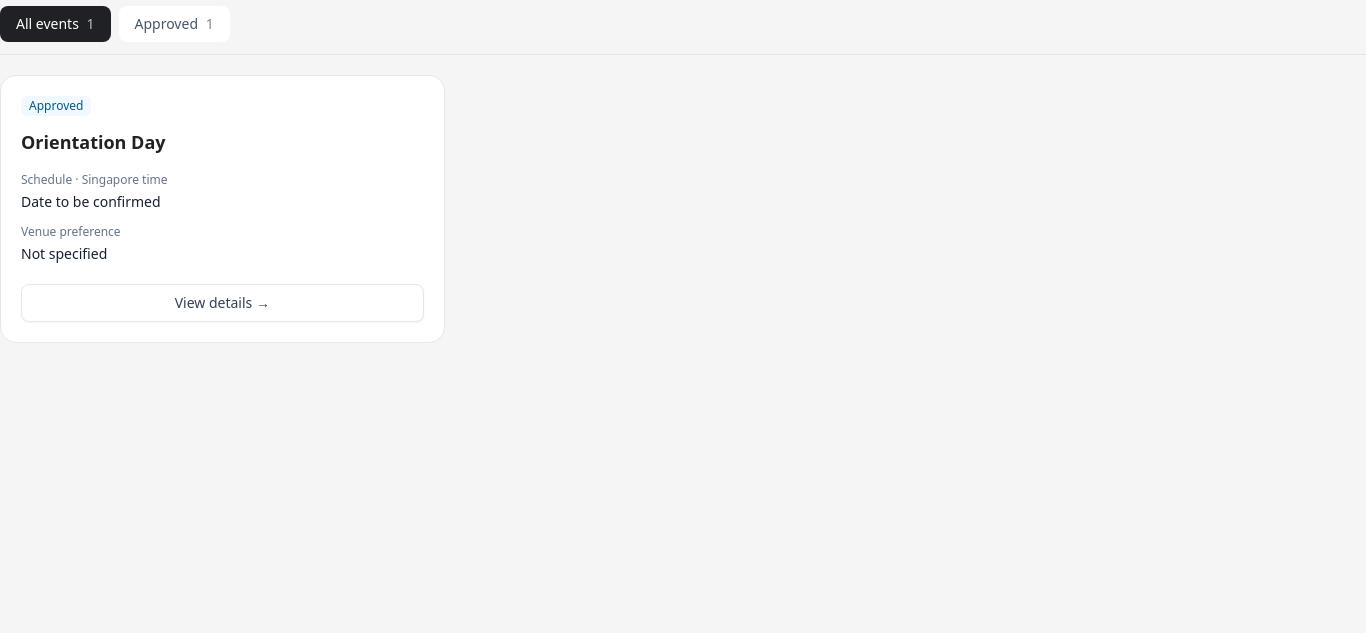
SCRUM-37 propose a significant change › AC8: a retry after a failure reuses the same submission key
Click the button with aria-label "View details for Orientation Day" at (222, 303), box x1=21 y1=284 x2=424 y2=322
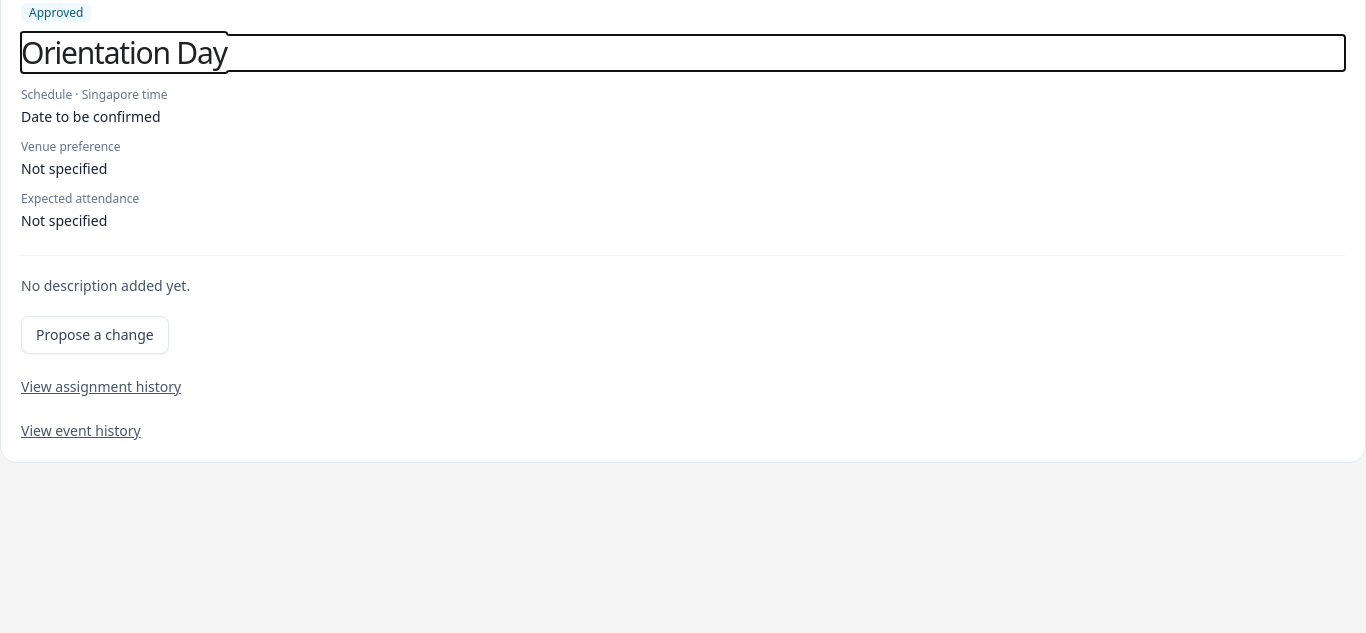
Click the button with aria-label "Propose a change to Orientation Day" at (95, 335), box x1=21 y1=316 x2=169 y2=354
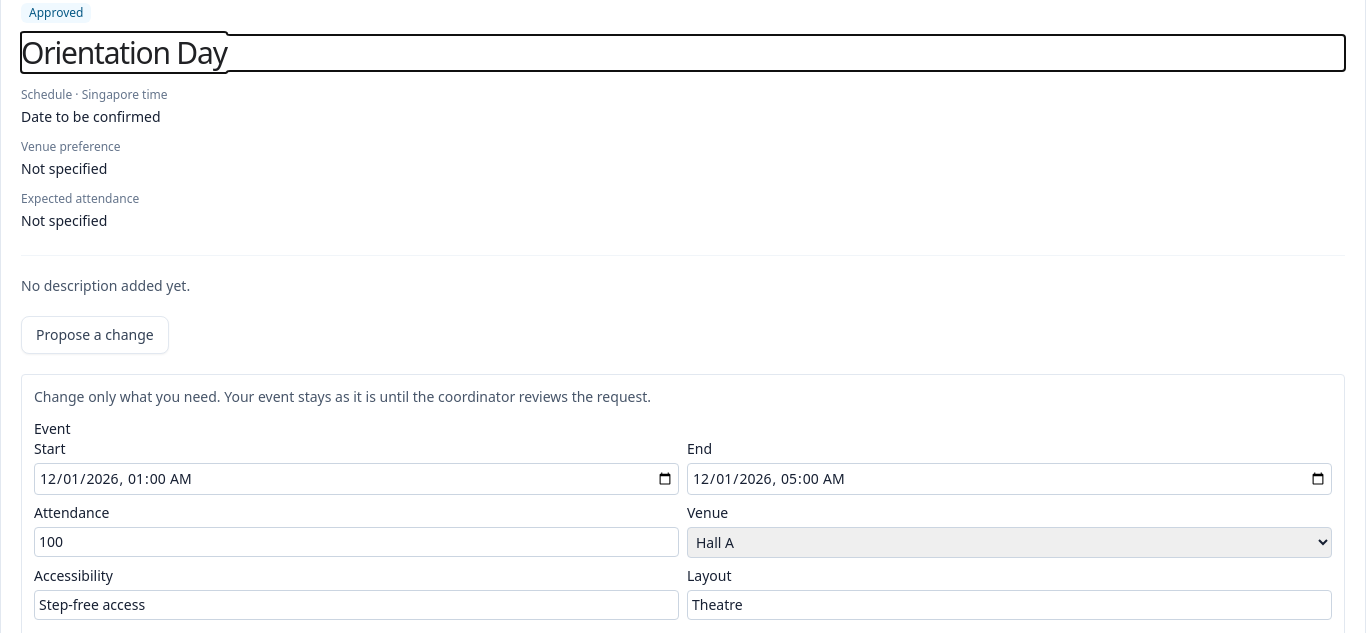
Replace the text in the number field labelled "Attendance" with "150" at (356, 542), box x1=34 y1=527 x2=679 y2=557
(page scrolled)
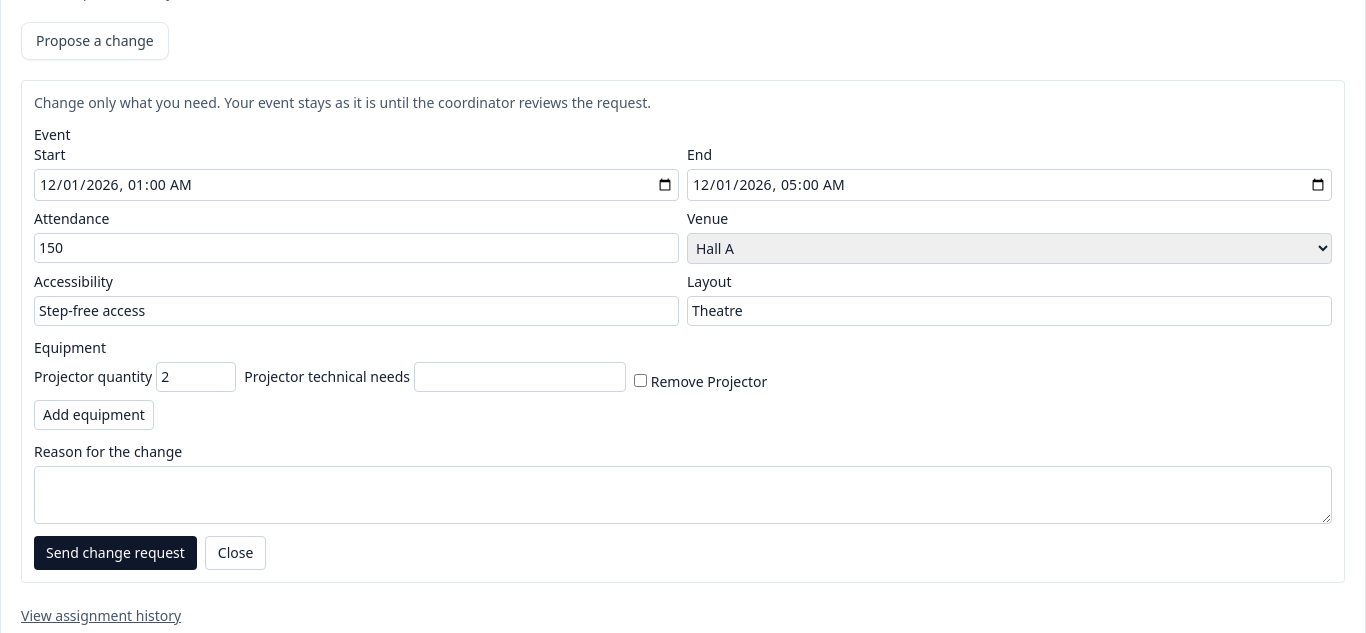
Type "More people" into the text box labelled "Reason for the change" at (683, 495), box x1=34 y1=466 x2=1332 y2=524
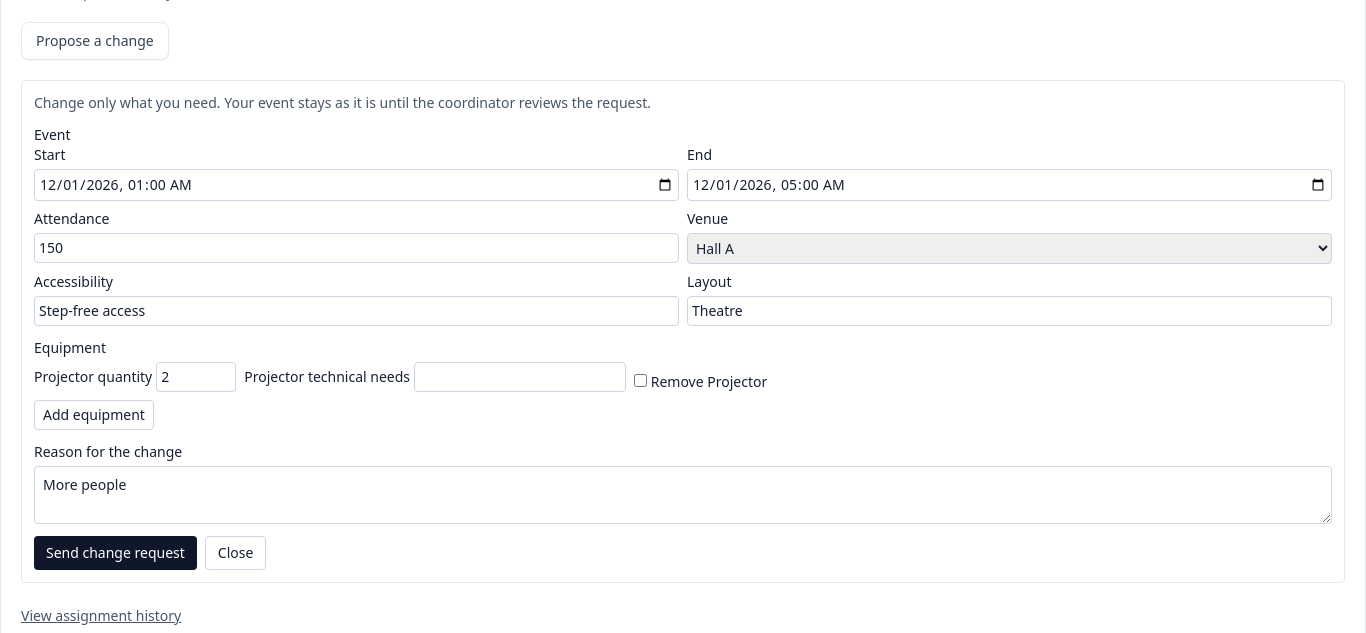
Click the button "Send change request" at (115, 553), box x1=34 y1=536 x2=197 y2=570
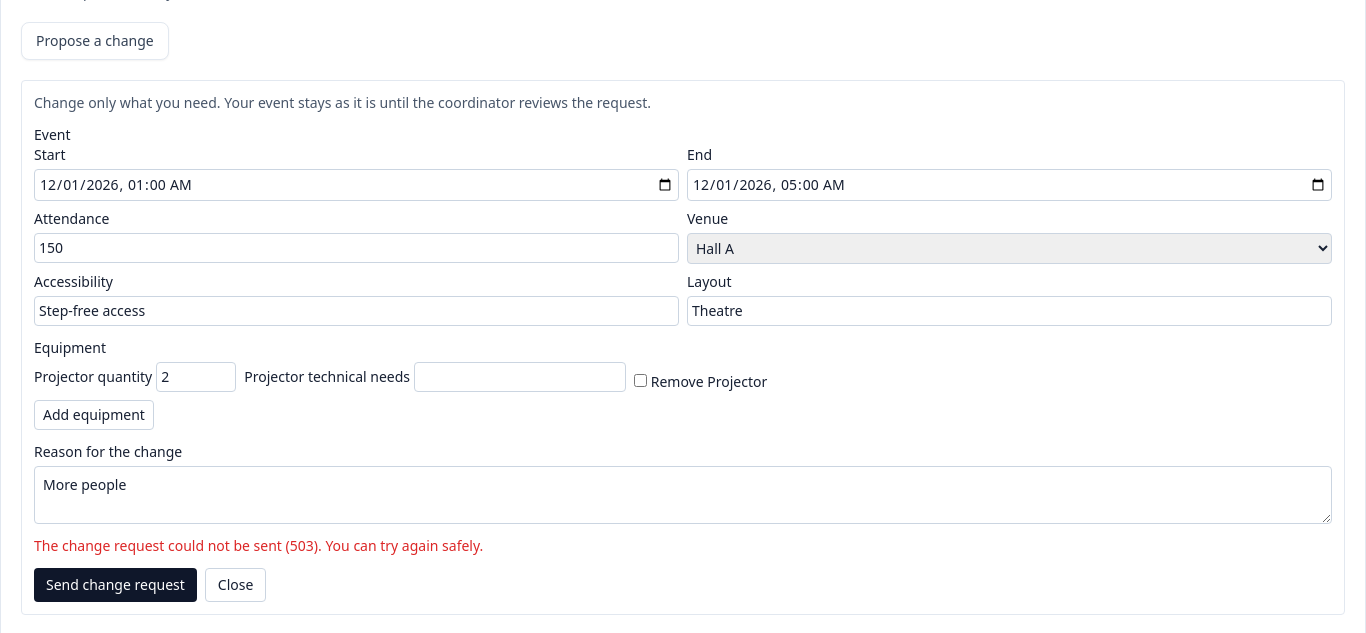
Result: the message shows "You can try again safely" at x1=318 y1=536 x2=483 y2=555
Click the button "Send change request" at (115, 585), box x1=34 y1=568 x2=197 y2=602
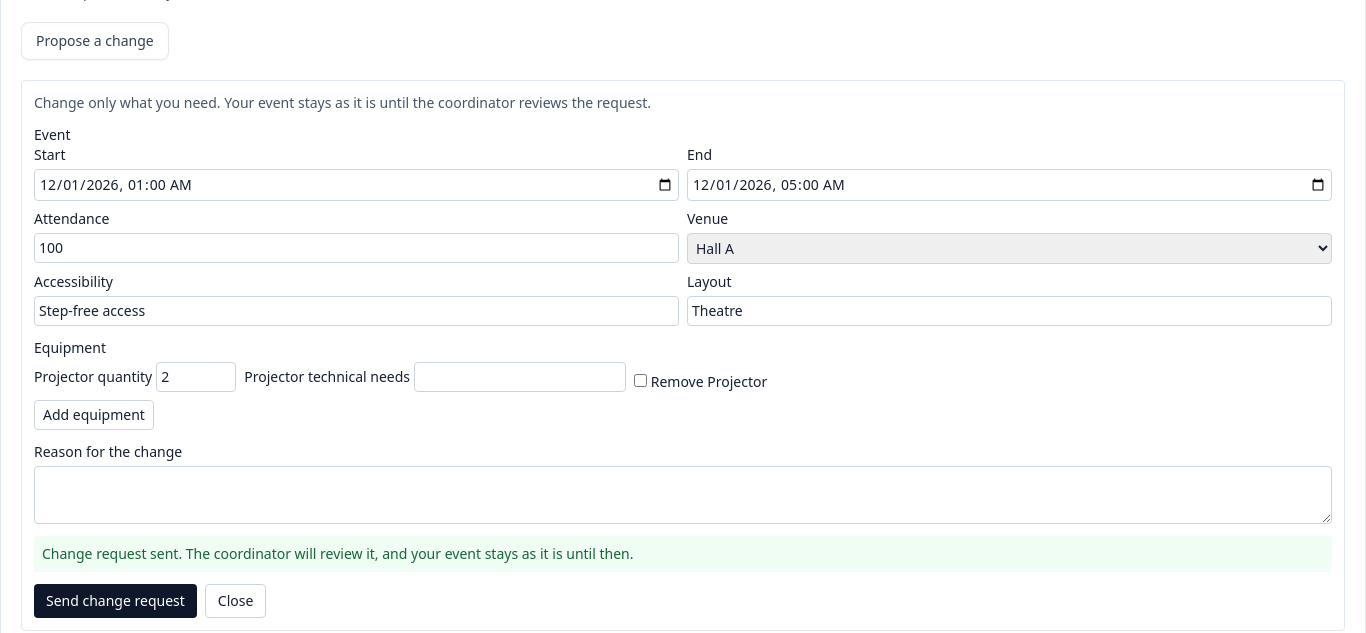
Result: the message is shown at x1=34 y1=536 x2=1332 y2=572
